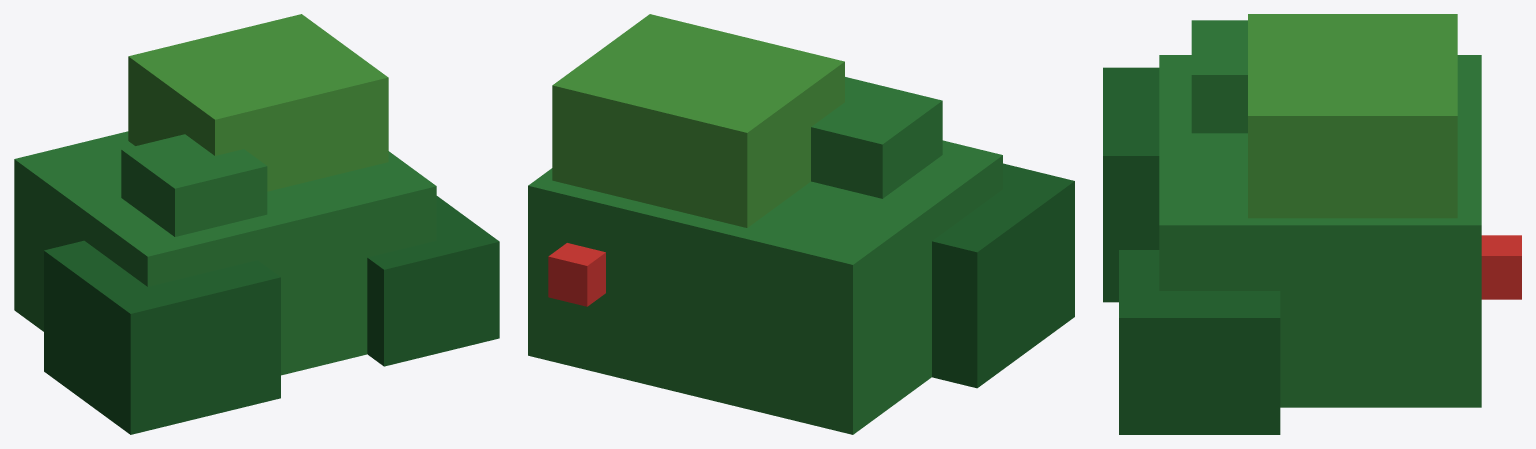
The model's file is Bush.glb.
3 views of the same model, side by side, from view 1: azimuth 30°, elevation 25°; view 2: azimuth 150°, elevation 25°; view 3: azimuth 270°, elevation 25° (orthographic). The views are drawn at different scales.
Visible parts, largest first — view 1: Bush; view 2: Bush; view 3: Bush.
Boxes of the visible parts, x1,y1,x2,y2 form: Bush: (14,14,499,434); Bush: (528,14,1074,434); Bush: (1103,14,1521,434).
Bounding box in the file's own units: 6.5 × 3.9 × 5.2.
1 material, 1 textured.
